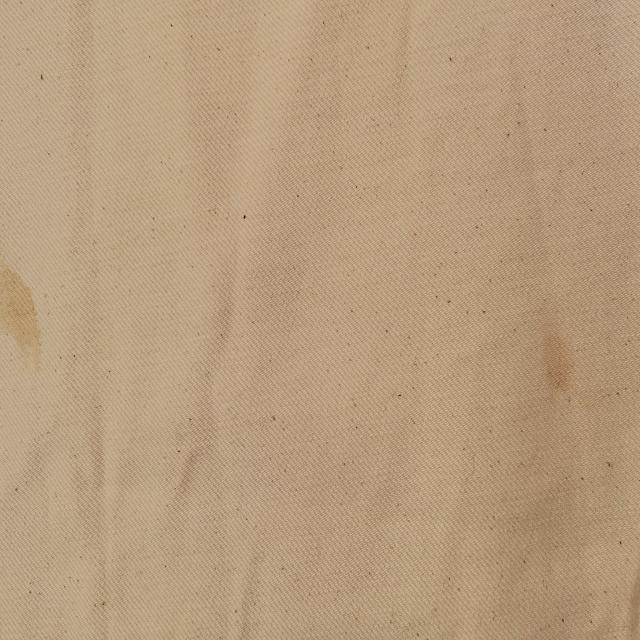taaaches: (2, 253, 42, 374), (537, 323, 577, 421)
